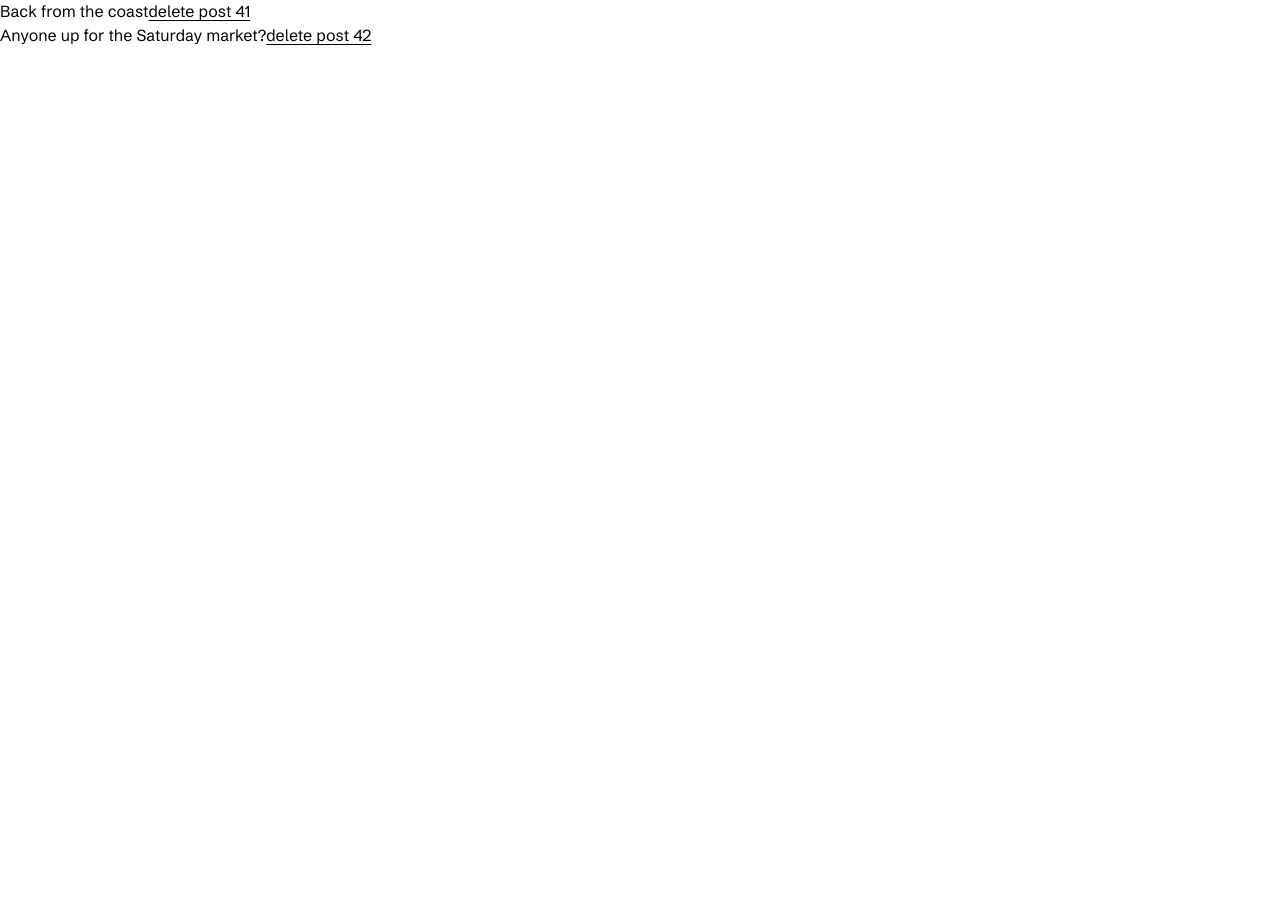
it: useConfirm › disables confirm while the action runs, so a double click sends one request (F-51)
Click the button "delete post 41" at [199, 12], box top-left (148, 0), bottom-right (250, 24)
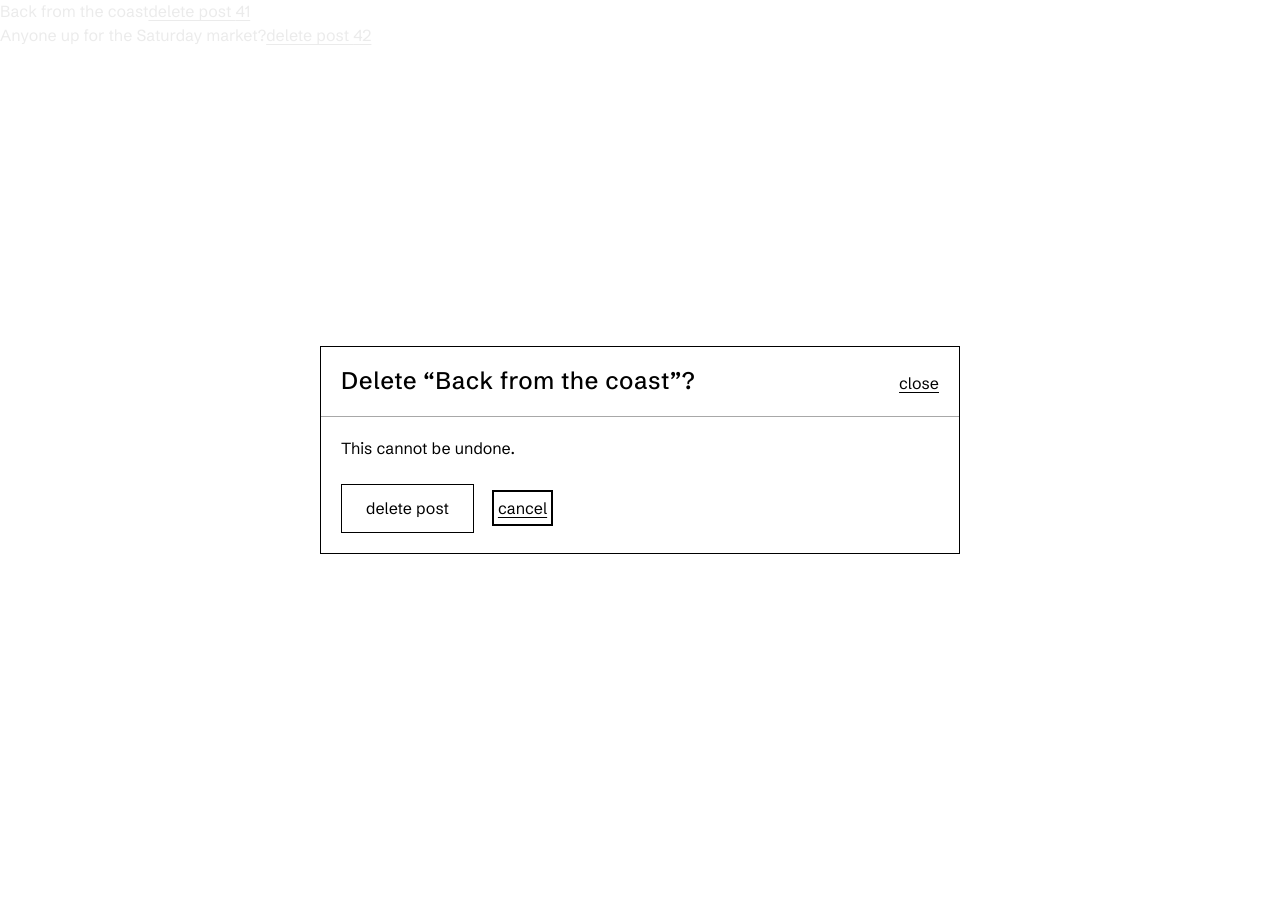
Click the button "delete post" at [407, 508], box top-left (341, 484), bottom-right (474, 533)
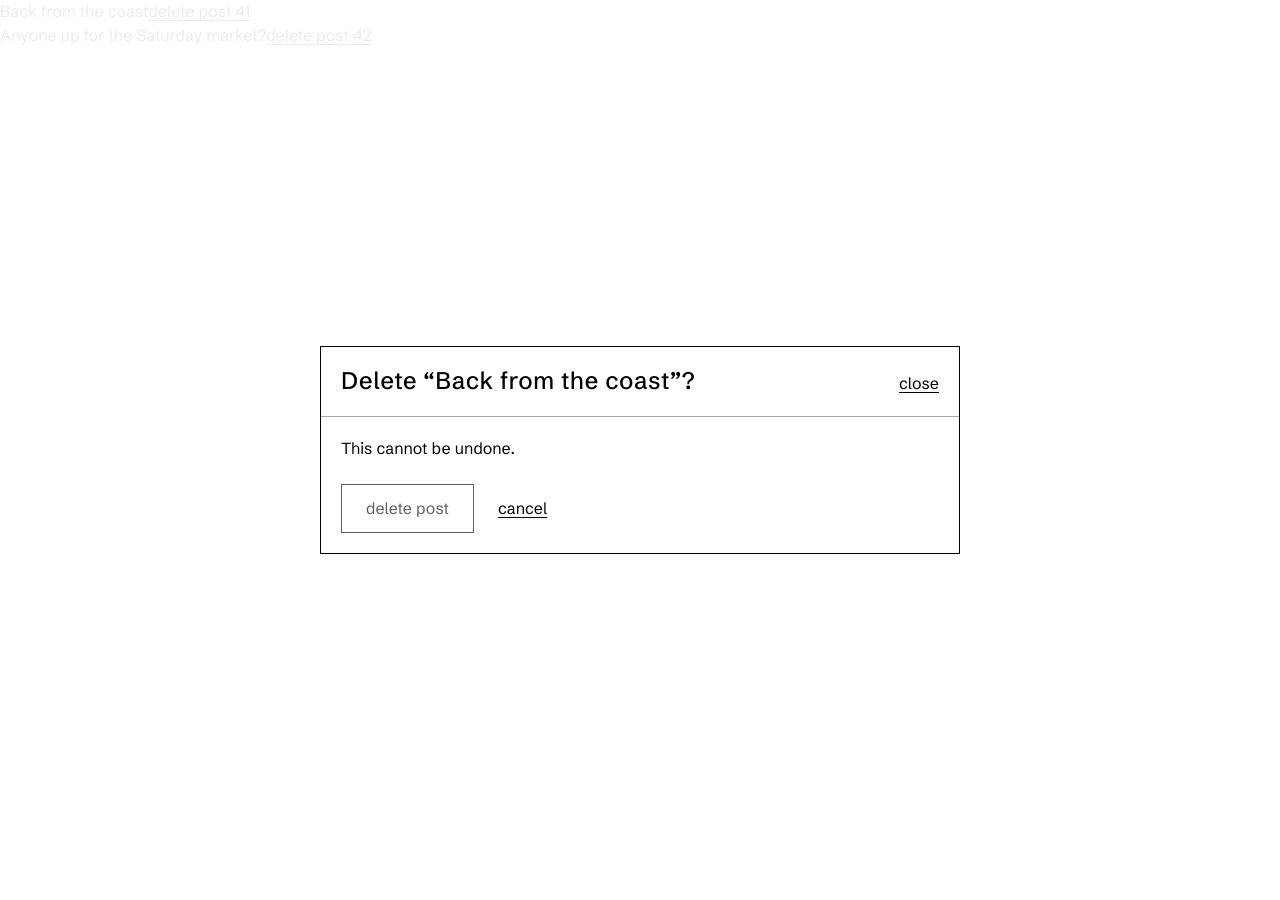
Now the button "delete post" is disabled
Click the button "delete post" at [407, 508], box top-left (341, 484), bottom-right (474, 533)
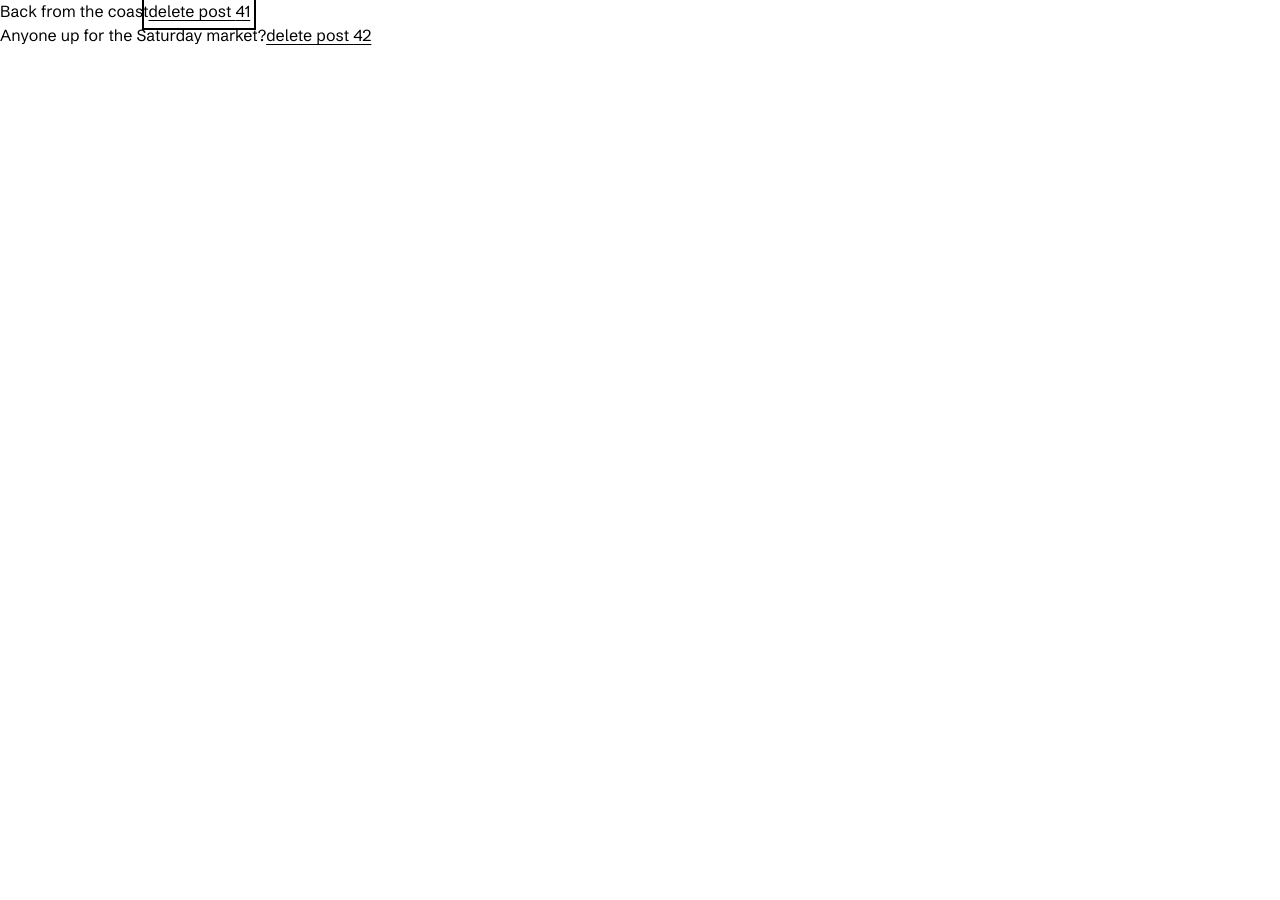
Now the dialog is gone
